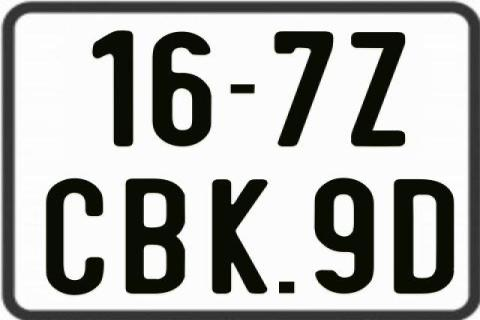0: (271, 29, 332, 147), (313, 178, 374, 296), (152, 32, 212, 146), (91, 30, 132, 146)
B: (125, 178, 187, 296)
C: (43, 178, 107, 298)
D: (394, 177, 458, 295)
K: (210, 179, 266, 295)
Z: (348, 30, 405, 144)
